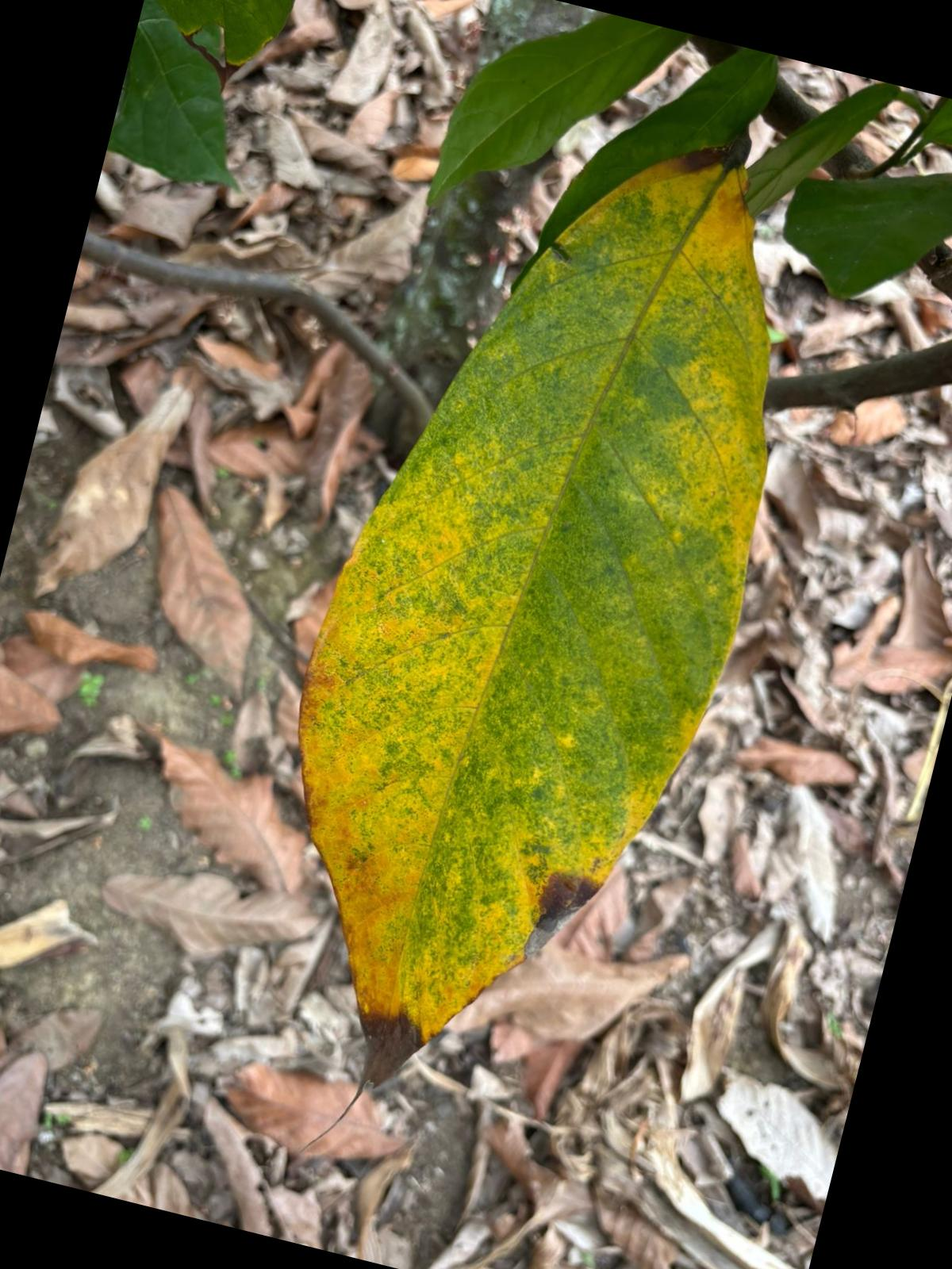Fosforo: (300, 144, 768, 1084)
